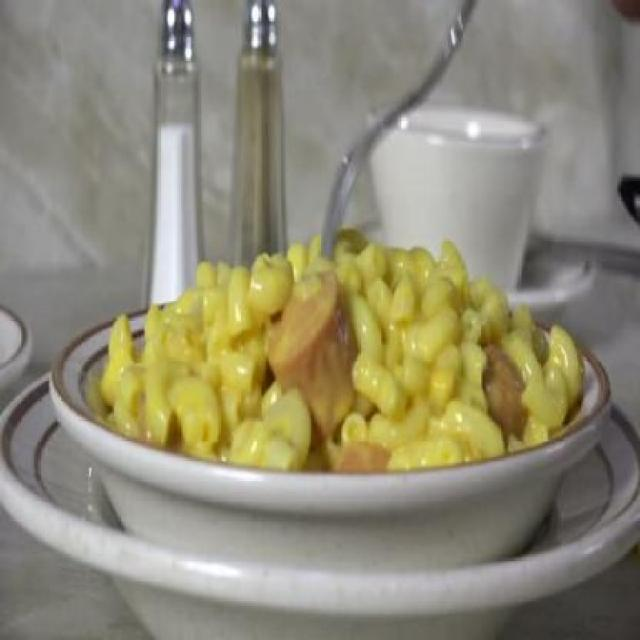hot dog: (265, 268, 387, 482), (478, 340, 522, 425)
macaroni and cheese: (95, 217, 587, 515)
